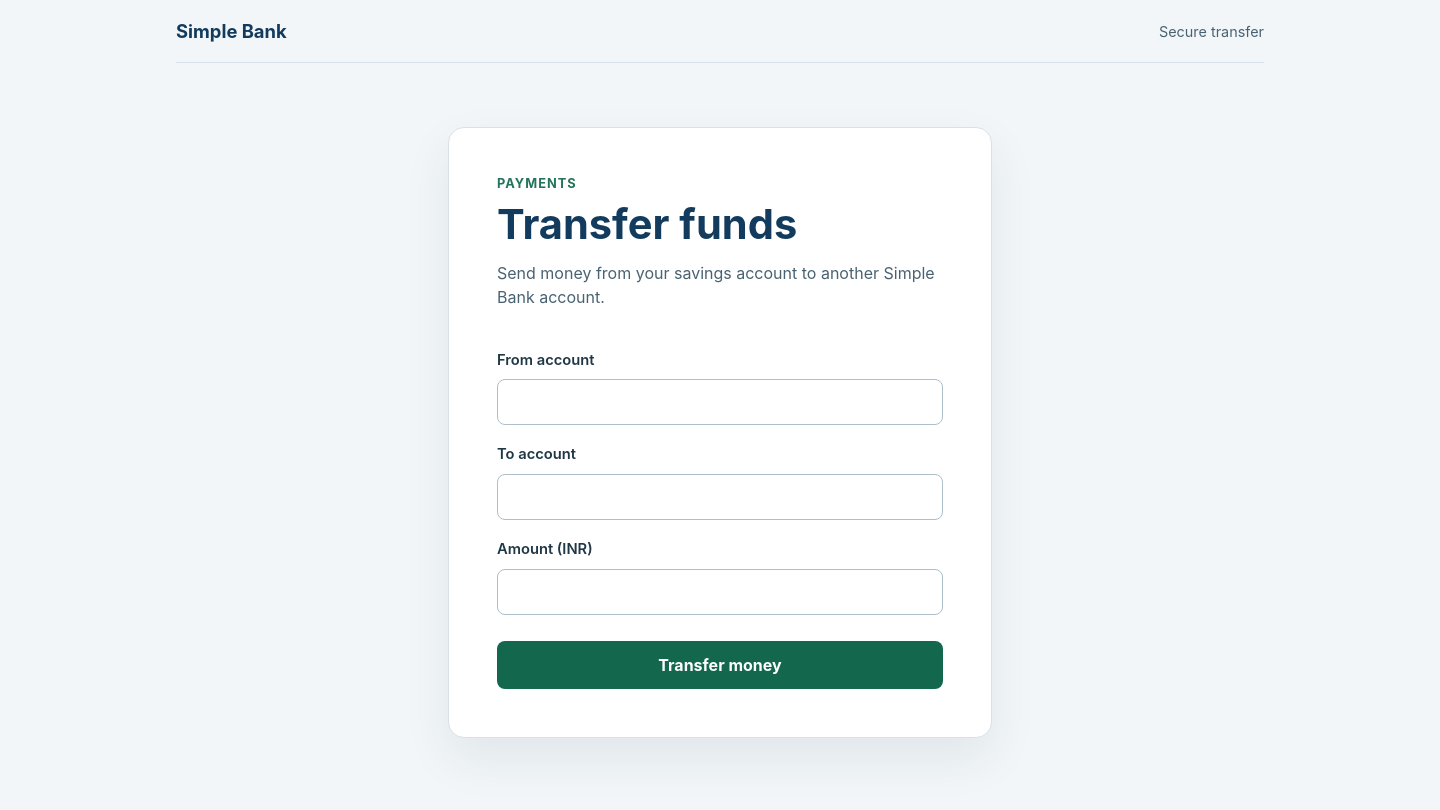
Test: TransferPage › submits through the transfer API and shows the saved confirmation
Type "12345678" into the field labelled "From account" at (720, 402), box 497,379 -> 943,425
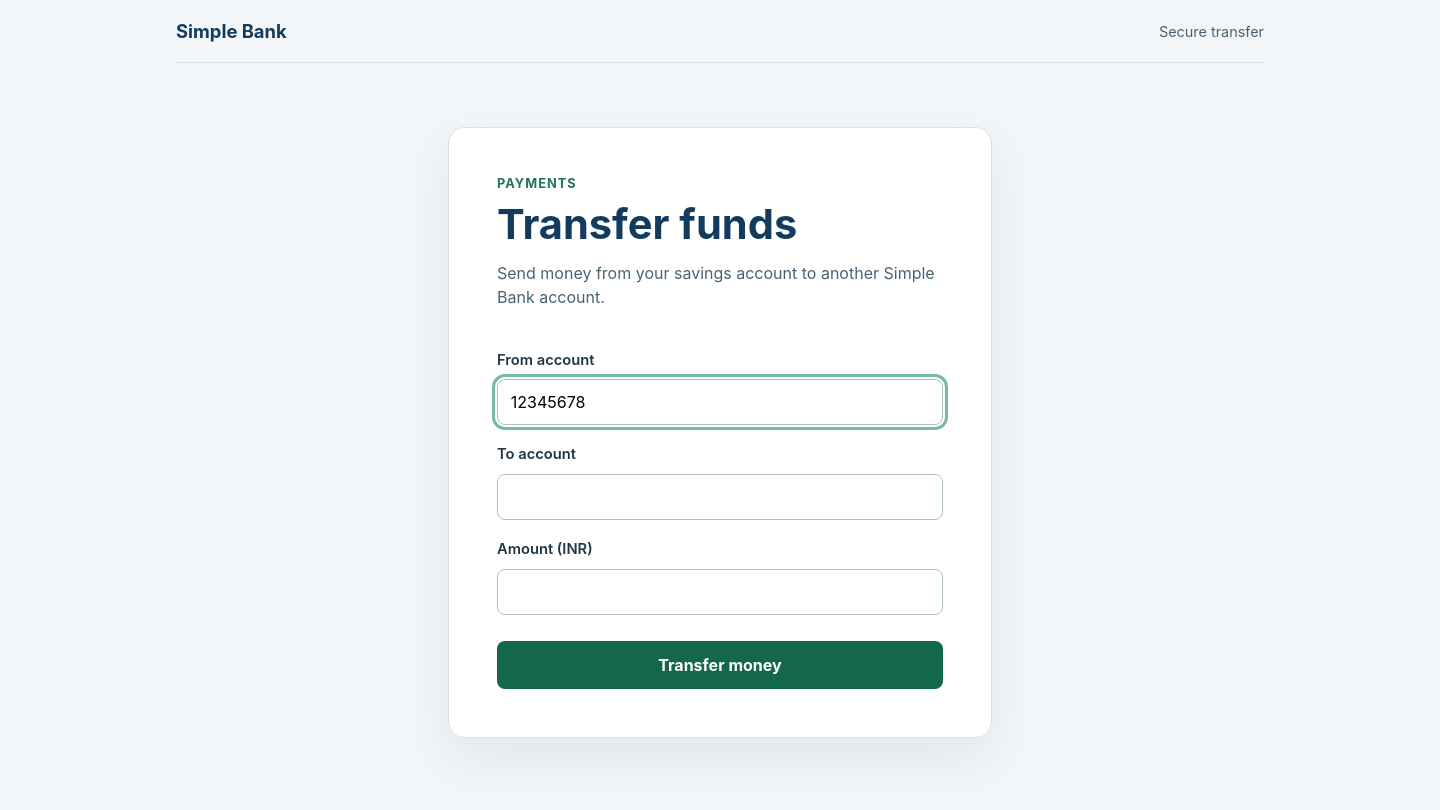
Type "87654321" into the field labelled "To account" at (720, 497), box 497,474 -> 943,520
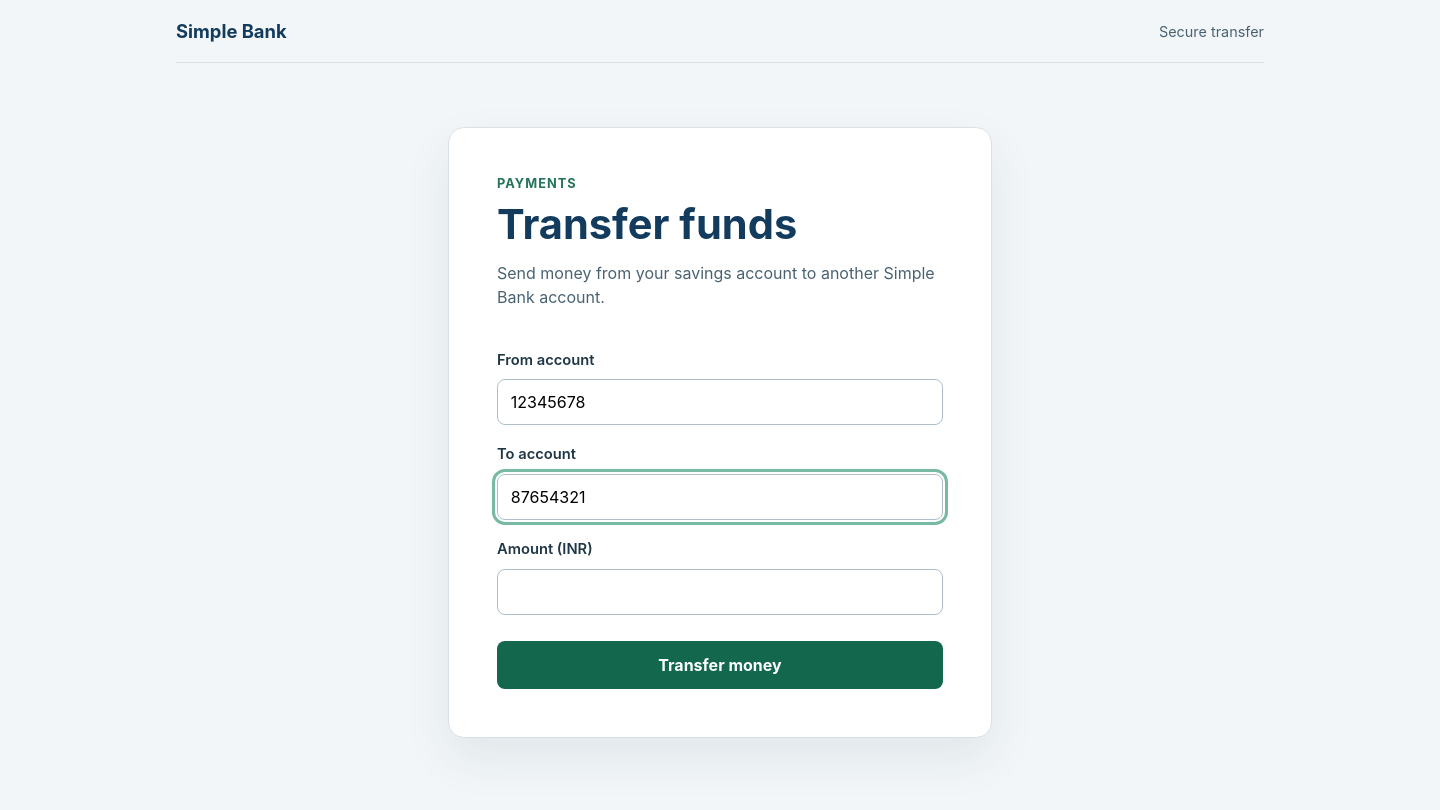
Type "125.50" into the field labelled "Amount (INR)" at (720, 592), box 497,568 -> 943,615
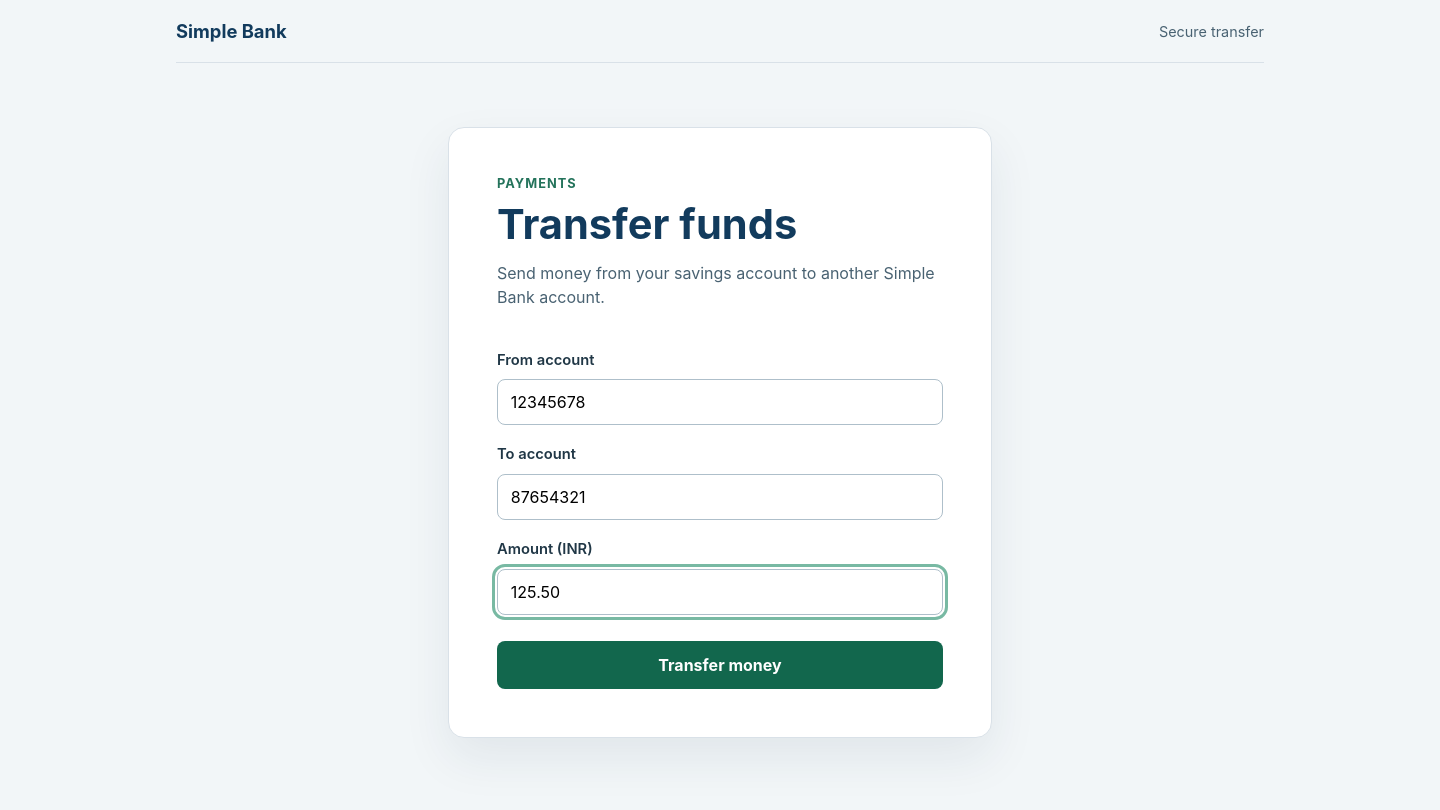
Click the button "Transfer money" at (720, 665), box 497,641 -> 943,689
(page scrolled)
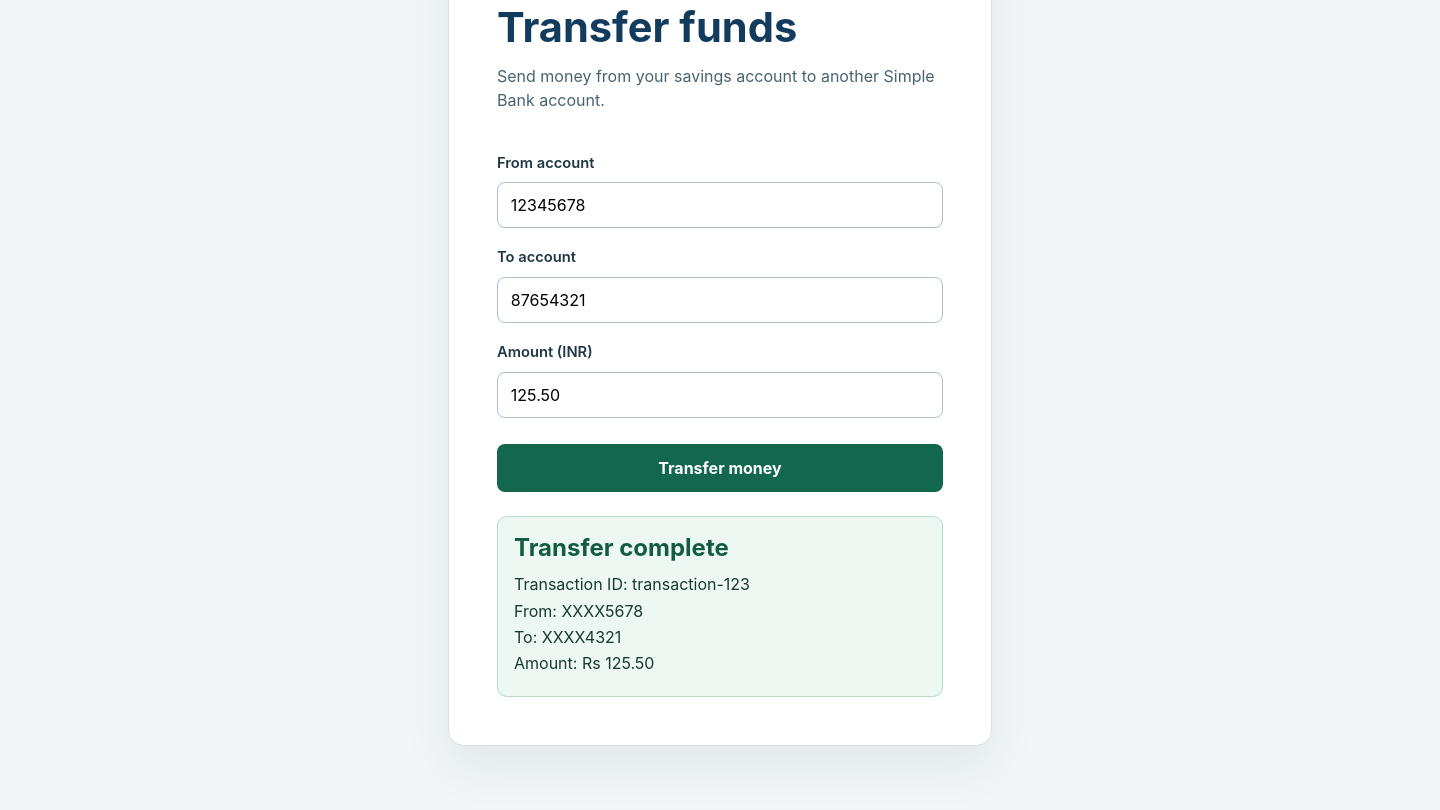
Check: the element named "Transfer confirmation" shows "transaction-123", box 632,574 -> 750,594
Check: the element named "Transfer confirmation" shows "XXXX5678", box 562,601 -> 643,621
